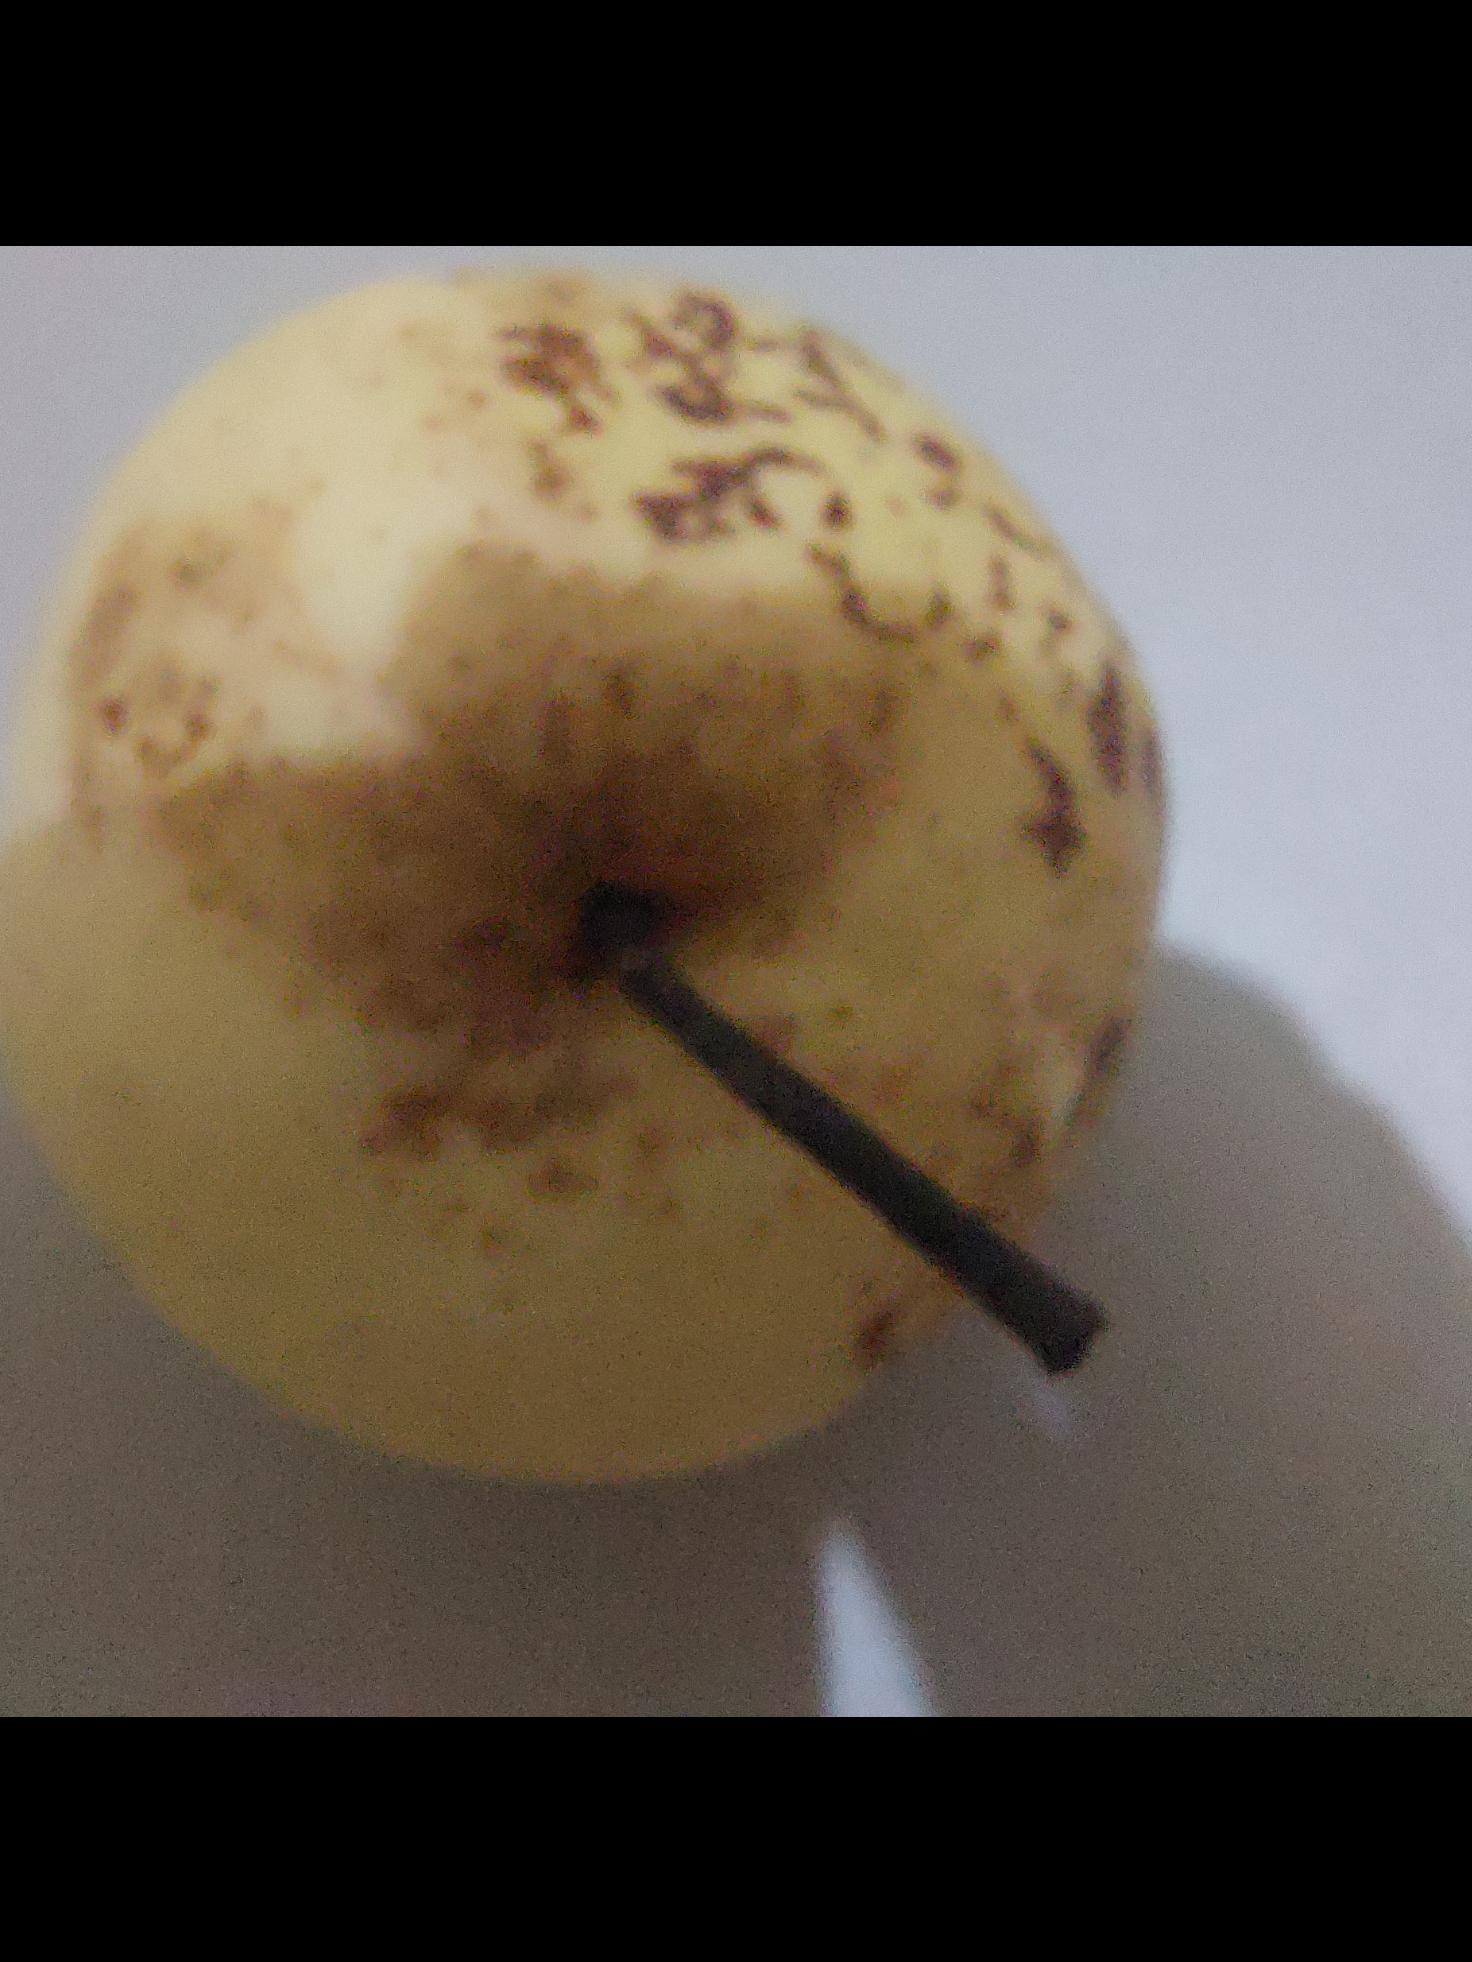Bad Pear: (0, 294, 1170, 1501)
